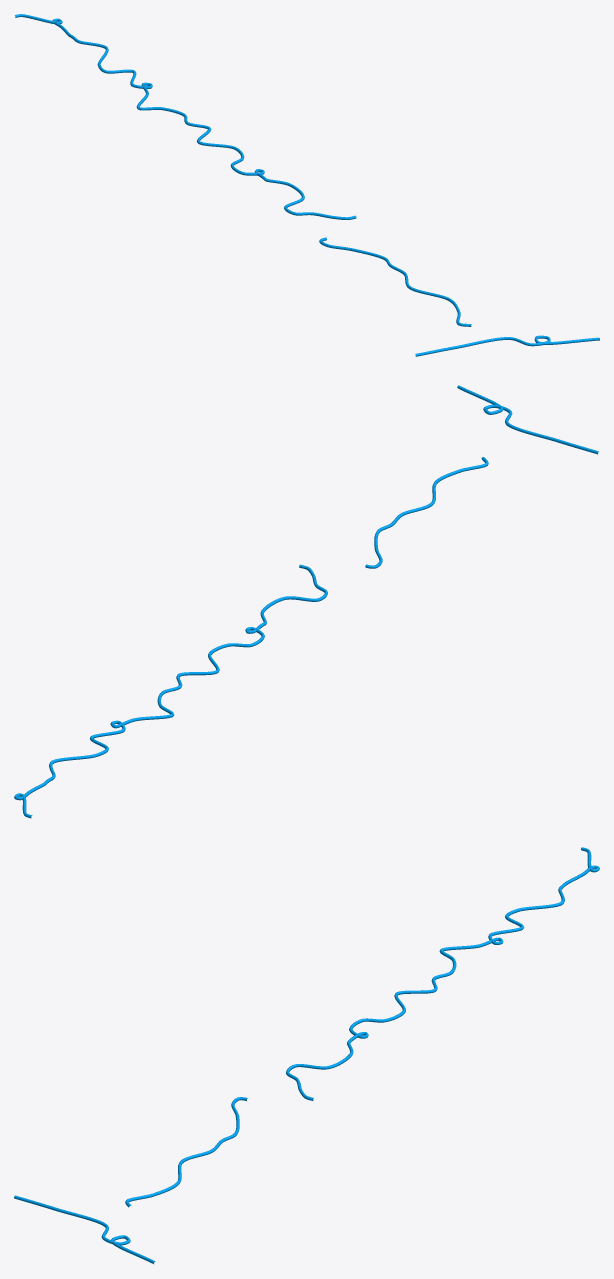
The model's file is paths.glb.
The picture shows the model from 3 angles, top to bottom: view 1: azimuth 30°, elevation 25°; view 2: azimuth 150°, elevation 25°; view 3: azimuth 330°, elevation 25°; orthographic projection. The views are drawn at different scales.
Parts seen in each view (by area): view 1: car_path_0, spaceship_path_2, boat_path_1; view 2: car_path_0, boat_path_1, spaceship_path_2; view 3: car_path_0, spaceship_path_2, boat_path_1.
Part boxes in pixels (<box>): car_path_0: <box>15,14,356,219</box>; spaceship_path_2: <box>415,335,599,356</box>; boat_path_1: <box>319,237,471,326</box>; car_path_0: <box>14,564,327,818</box>; boat_path_1: <box>365,457,488,568</box>; spaceship_path_2: <box>457,385,598,454</box>; car_path_0: <box>286,847,599,1100</box>; spaceship_path_2: <box>14,1195,155,1264</box>; boat_path_1: <box>125,1097,247,1207</box>.
Size of the model in its own units: 92.96 by 5.63 by 501.
